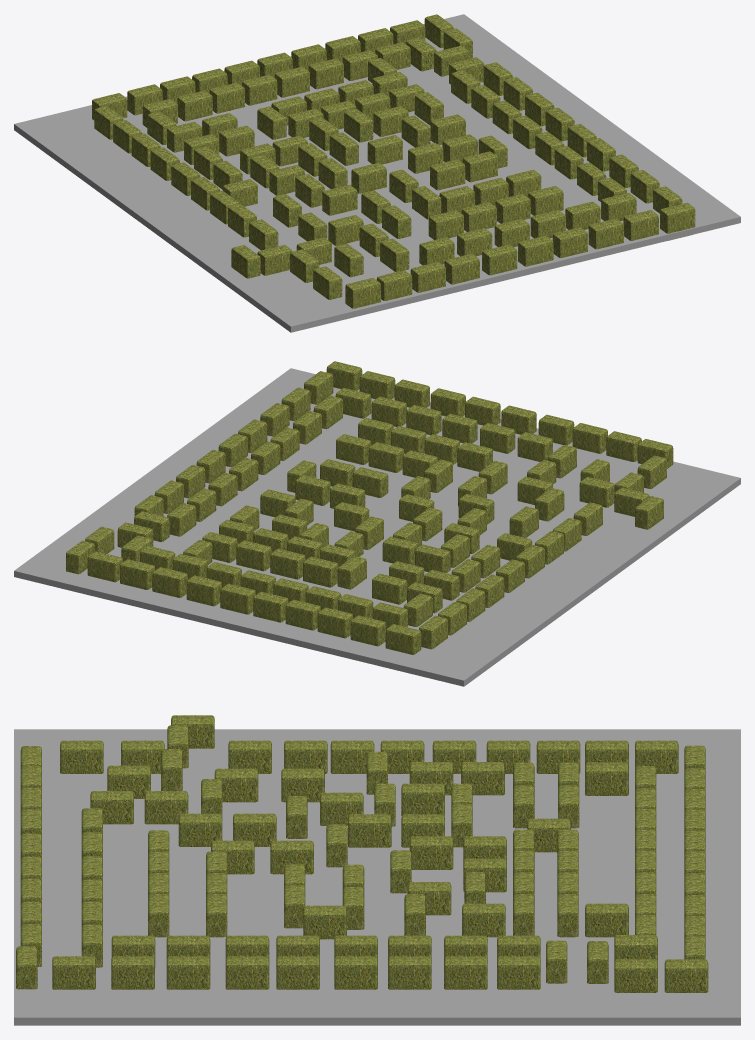
File: greenLevelTest.fbx
3 views of the same model, one above another, from view 1: azimuth 30°, elevation 25°; view 2: azimuth 150°, elevation 25°; view 3: azimuth 270°, elevation 25° (orthographic). The views are drawn at different scales.
Parts seen in each view (by area): view 1: polySurface78; view 2: polySurface78; view 3: polySurface78.
Boxes of the visible parts, bbox=[...] form: polySurface78: bbox=[14, 14, 740, 332]; polySurface78: bbox=[14, 361, 740, 686]; polySurface78: bbox=[14, 715, 740, 1025].
Bounding box in the file's own units: 58.09 × 3.4 × 61.9.
Materials: 2 (1 with a texture image).
